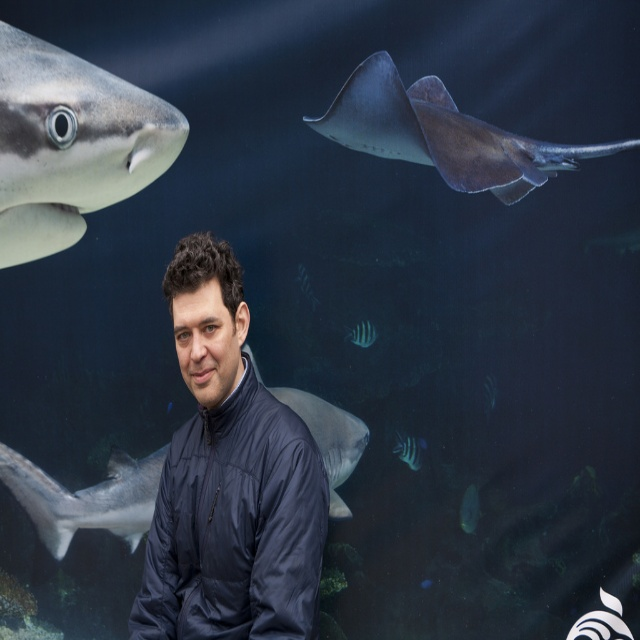Shark: (1, 342, 369, 565), (0, 17, 190, 269)
